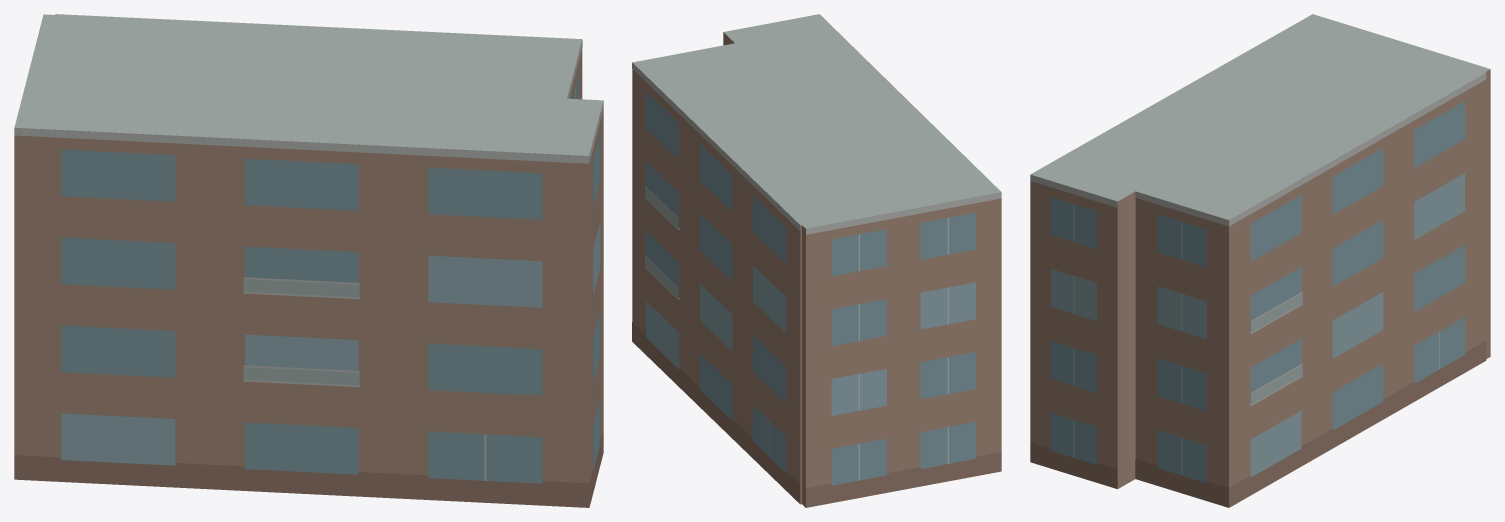
File: survey-upis-32533921.glb
3 views of the same model, side by side, from view 1: azimuth 30°, elevation 25°; view 2: azimuth 150°, elevation 25°; view 3: azimuth 270°, elevation 25° (orthographic). The views are drawn at different scales.
Visible parts, largest first — view 1: survey-upis-32533921.tmp; view 2: survey-upis-32533921.tmp; view 3: survey-upis-32533921.tmp.
Boxes of the visible parts, x1,y1,x2,y2 form: survey-upis-32533921.tmp: [14, 14, 603, 507]; survey-upis-32533921.tmp: [632, 14, 1001, 507]; survey-upis-32533921.tmp: [1030, 14, 1490, 507].
Size of the model in its own units: 17 by 11.05 by 16.04.
